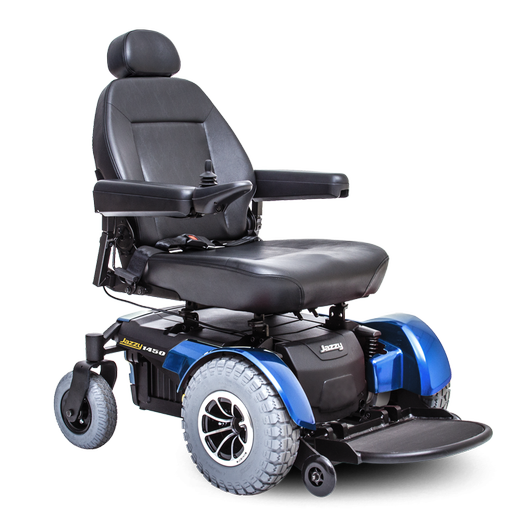wheelchair: (46, 28, 494, 496)
